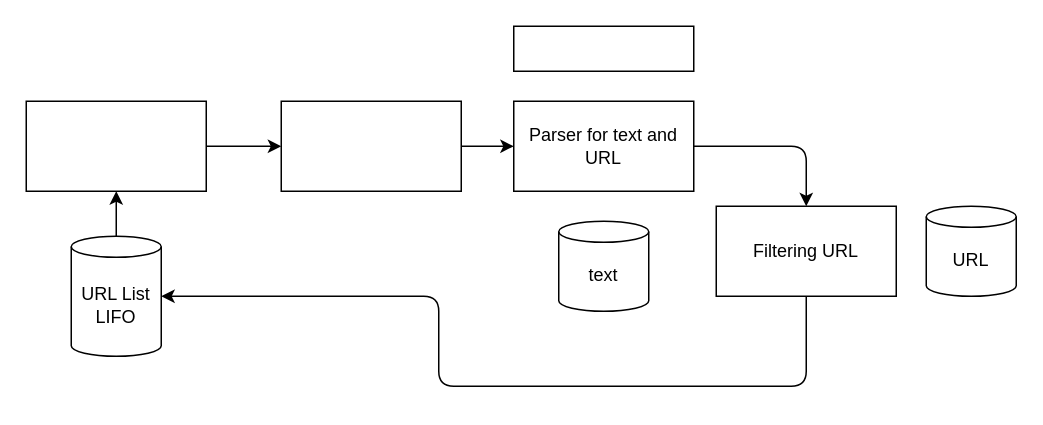
This 1043x425 diagram has some shape labels left out. Each missing label, with the centre of its shape:
"Elastic Storage" belongs at [370,145].
"Intelligent URL Hashing" belongs at [603,48].
"webcrawler" belongs at [115,145].
